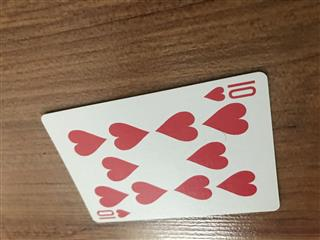TenOfHearts: (39, 69, 280, 223)
